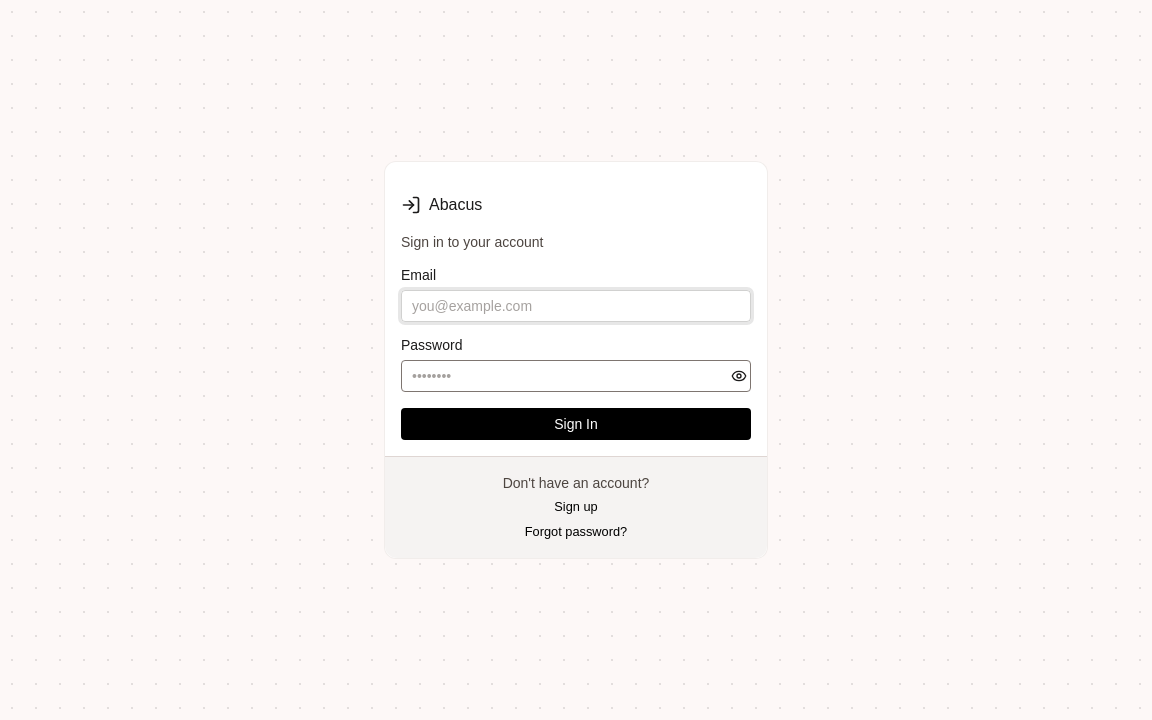
Auth Page › shows error message on failed login
The image size is (1152, 720).
Expected: the text "Sign in to your account" is shown, [401,234,543,250]
Type "bad@b.com" into the field labelled "Email". click: (576, 306)
box: [401,290,751,322]
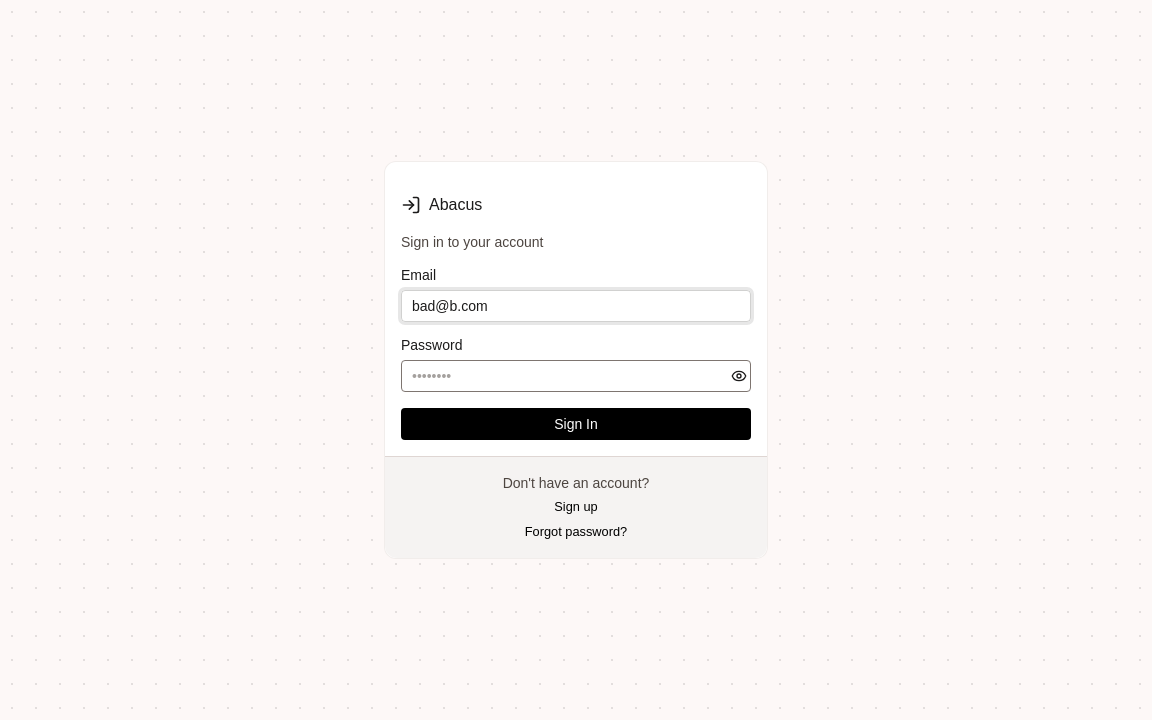
Type "wrong" into the password field labelled "Password". click: (576, 376)
box: [401,360,751,392]
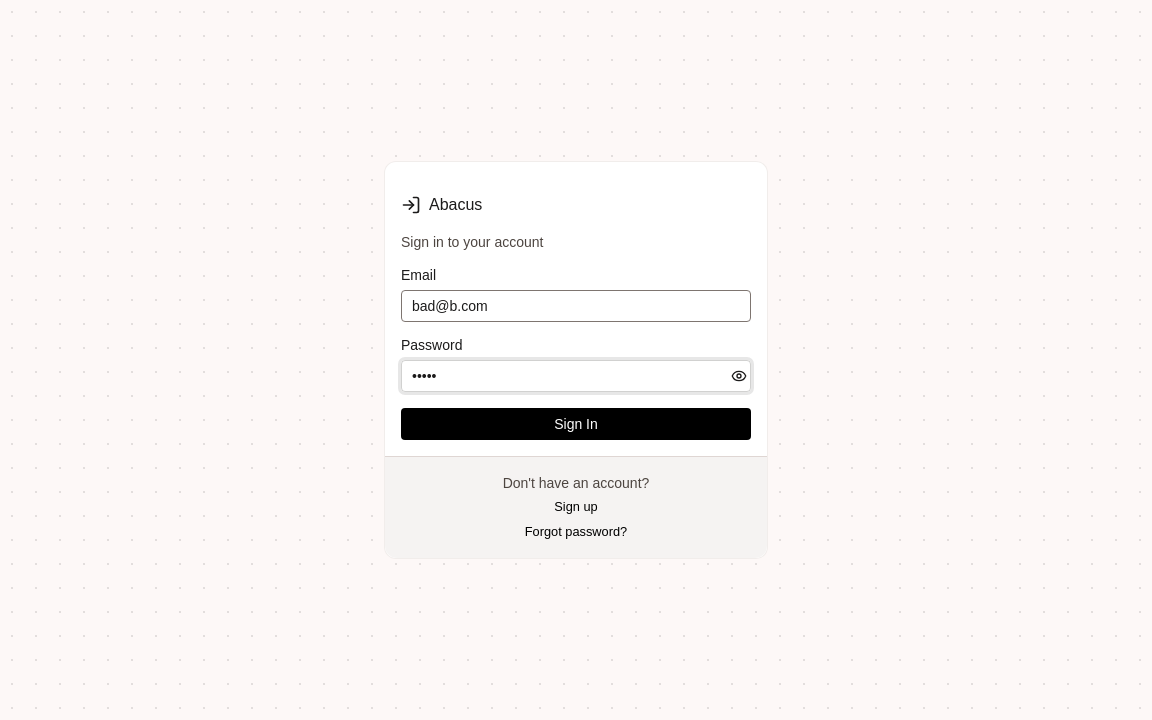
Click the button "Sign In". click: (576, 424)
box: [401,408,751,440]
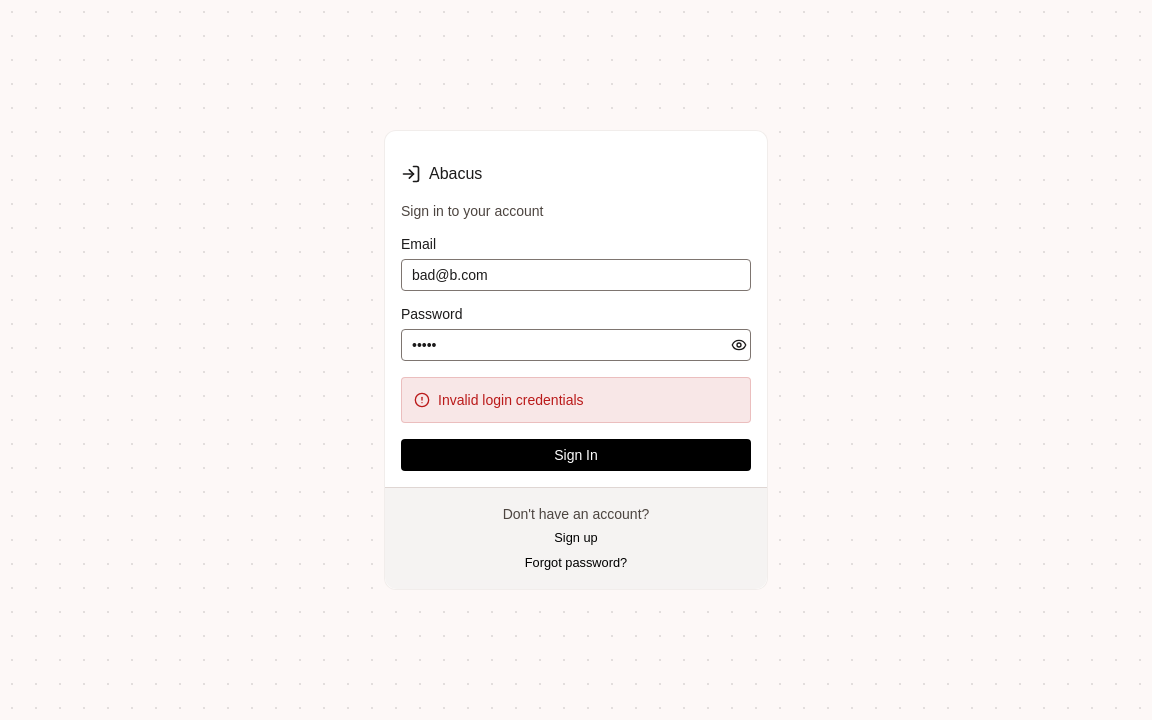
Expected: the text "Invalid login credentials" is shown, [438,390,584,410]
Expected: the icon with class "lucide-circle-alert" is shown, [414,392,430,408]
